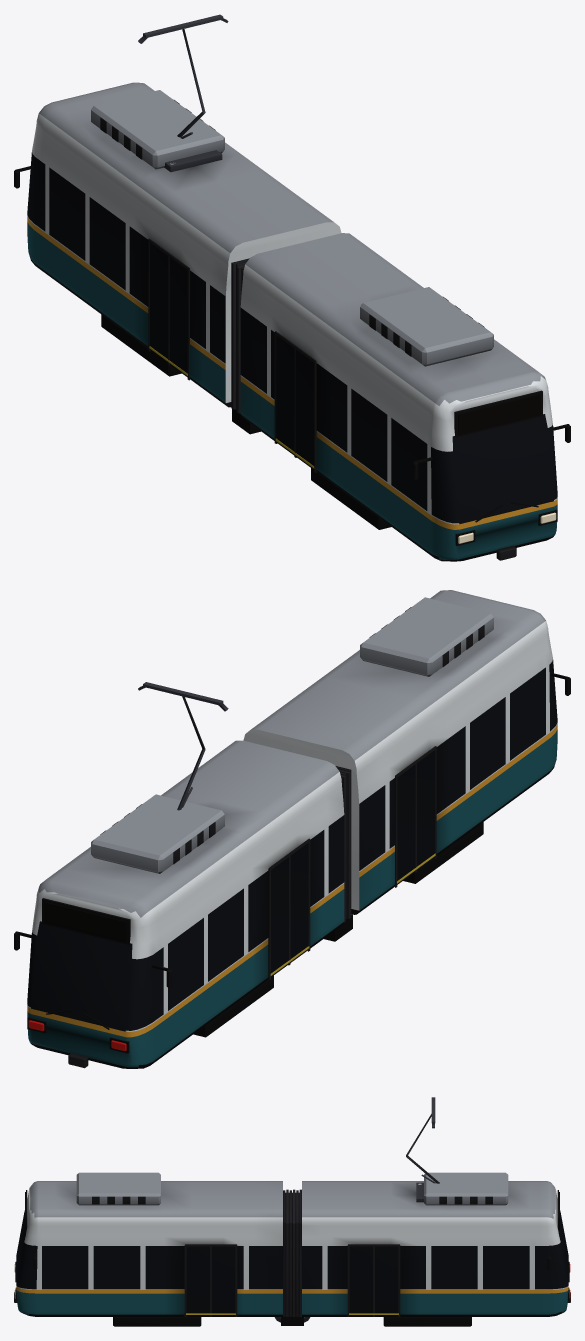
File: prop.town.tram.glb
3 views of the same model, one above another, from view 1: azimuth 30°, elevation 25°; view 2: azimuth 150°, elevation 25°; view 3: azimuth 270°, elevation 25° (orthographic). The views are drawn at different scales.
Visible parts, largest first — view 1: v0_LOD0; view 2: v0_LOD0; view 3: v0_LOD0.
Boxes of the visible parts, bbox=[...] form: v0_LOD0: bbox=[14, 14, 570, 561]; v0_LOD0: bbox=[14, 590, 570, 1068]; v0_LOD0: bbox=[14, 1097, 570, 1326].
Size of what is drawn, in the model's own units: 3.04 by 5.87 by 14.52.
